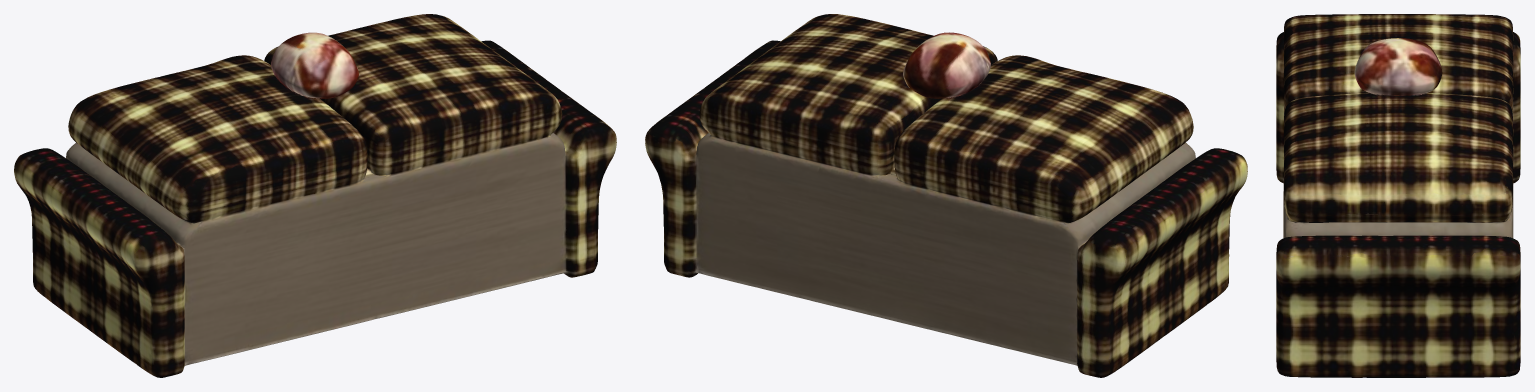
File: plaid_4.glb
The picture shows the model from 3 angles, left to right: view 1: azimuth 30°, elevation 25°; view 2: azimuth 150°, elevation 25°; view 3: azimuth 270°, elevation 25°; orthographic projection. The views are drawn at different scales.
Visible parts, largest first — view 1: geometry_0; view 2: geometry_0; view 3: geometry_0.
Boxes of the visible parts, x1,y1,x2,y2 form: geometry_0: [14, 14, 616, 377]; geometry_0: [645, 14, 1247, 377]; geometry_0: [1276, 14, 1520, 377].
Size of the model in its own units: 1 by 0.4856 by 0.458.
Materials: 1 (1 with a texture image).
